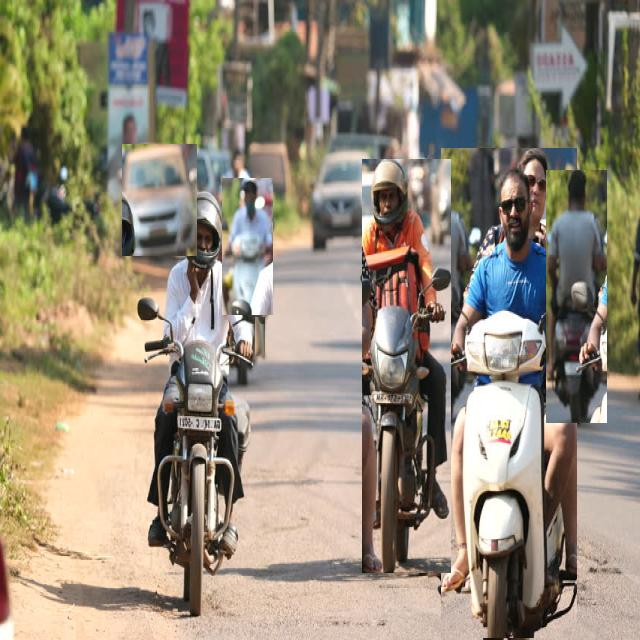car: (122, 144, 196, 256), (312, 151, 381, 248)
motorcycle: (441, 148, 576, 638), (139, 193, 260, 616), (362, 159, 450, 573), (546, 171, 606, 423), (222, 178, 272, 315), (255, 317, 265, 356)
